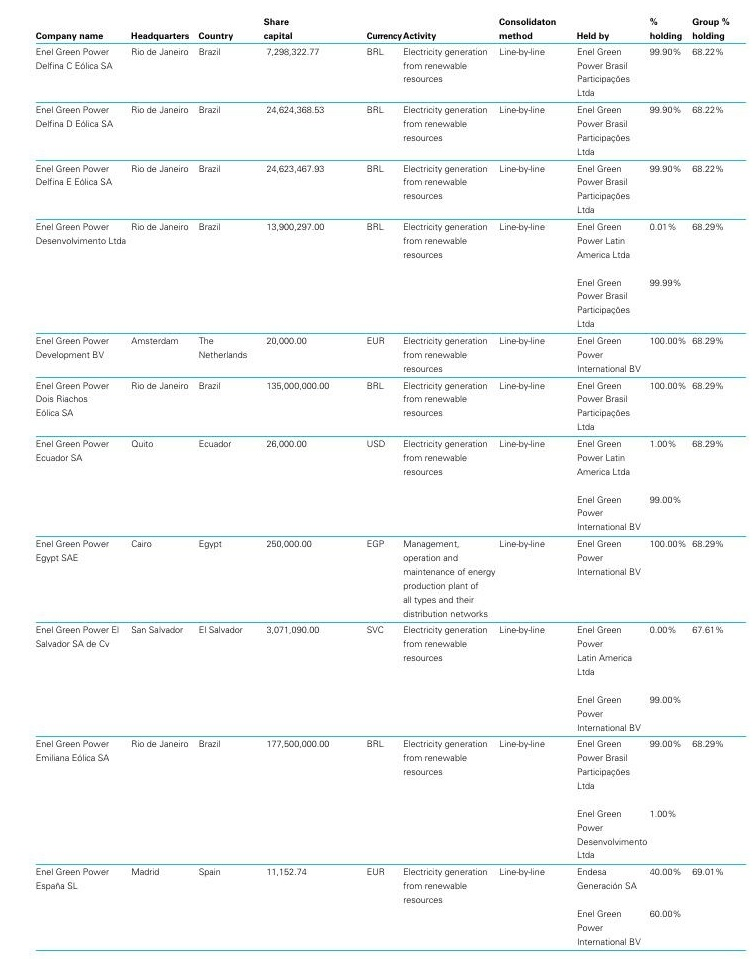table: (0, 0, 756, 959)
